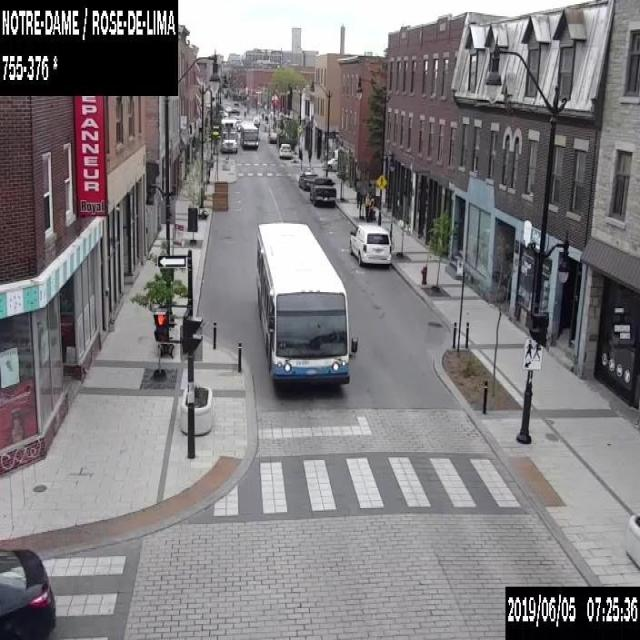bus: (256, 220, 356, 384), (240, 121, 259, 148)
pedestrian: (368, 194, 374, 221), (364, 192, 368, 220), (243, 109, 246, 118), (261, 112, 263, 120)
vehicle: (0, 546, 55, 638), (348, 223, 391, 268), (310, 177, 336, 205), (220, 118, 237, 152), (298, 170, 317, 190), (321, 157, 337, 169), (278, 143, 290, 156), (268, 132, 277, 143), (227, 108, 239, 114), (225, 106, 229, 110)
